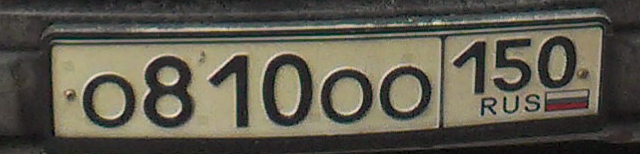character: (201, 48, 259, 137), (139, 53, 198, 135), (257, 49, 315, 128), (318, 65, 376, 128), (80, 71, 137, 132), (377, 66, 433, 126), (492, 36, 535, 95), (449, 40, 490, 101), (534, 36, 579, 91)
